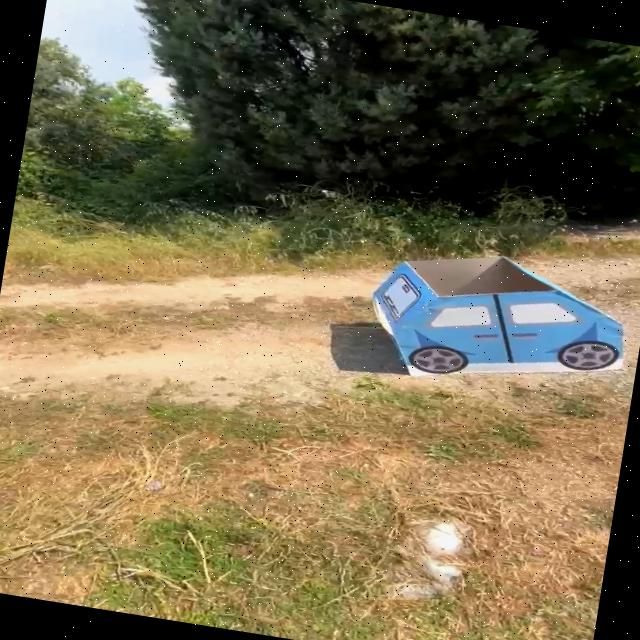blue_car: (328, 229, 640, 429)
